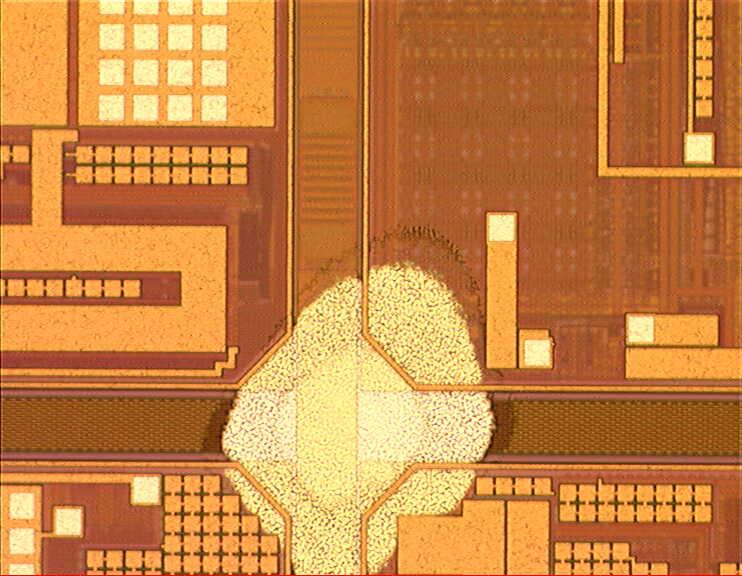BLOCK ETCH: (203, 224, 521, 576)
